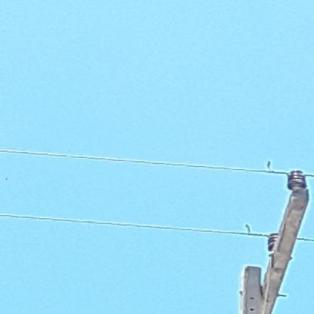Poste: (230, 267, 270, 314)
